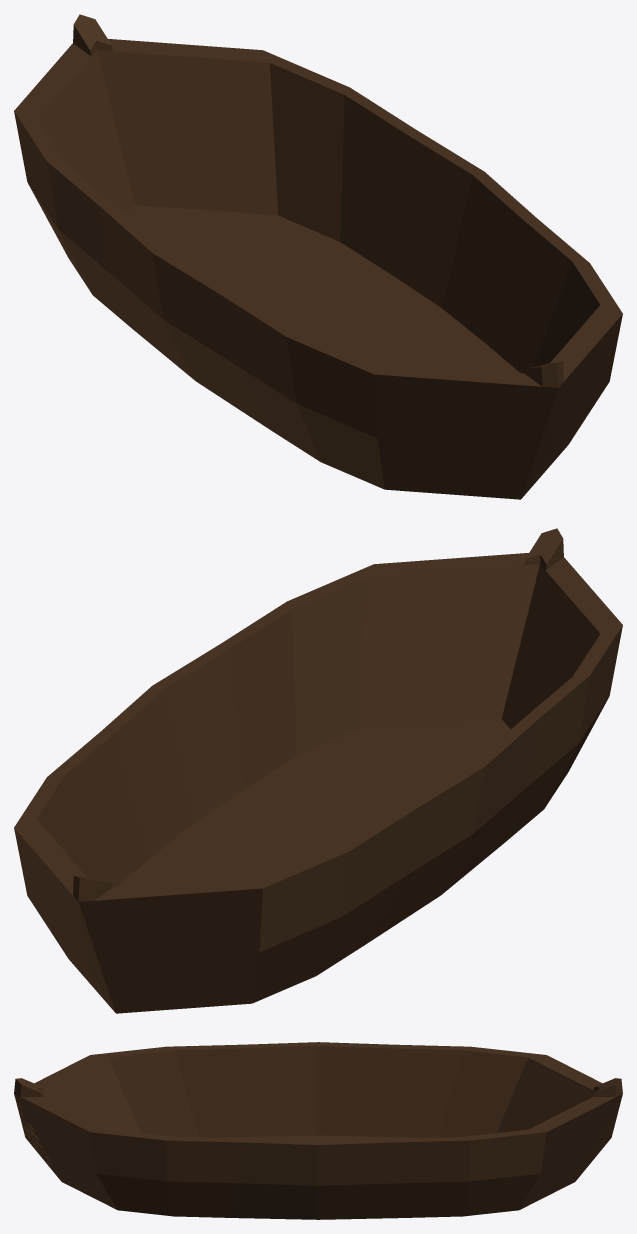
File: Boat_1_Dark_Brown.fbx
3 renders of one model, top to bottom at view 1: azimuth 30°, elevation 25°; view 2: azimuth 150°, elevation 25°; view 3: azimuth 270°, elevation 25°, orthographic. The views are drawn at different scales.
Visible parts, largest first — view 1: Boat_1_Dark_Brown; view 2: Boat_1_Dark_Brown; view 3: Boat_1_Dark_Brown.
Boxes of the visible parts, x1,y1,x2,y2 form: Boat_1_Dark_Brown: (14, 14, 622, 499); Boat_1_Dark_Brown: (14, 528, 622, 1013); Boat_1_Dark_Brown: (14, 1042, 622, 1219).
Size of the model in its own units: 220 by 103 by 550.
